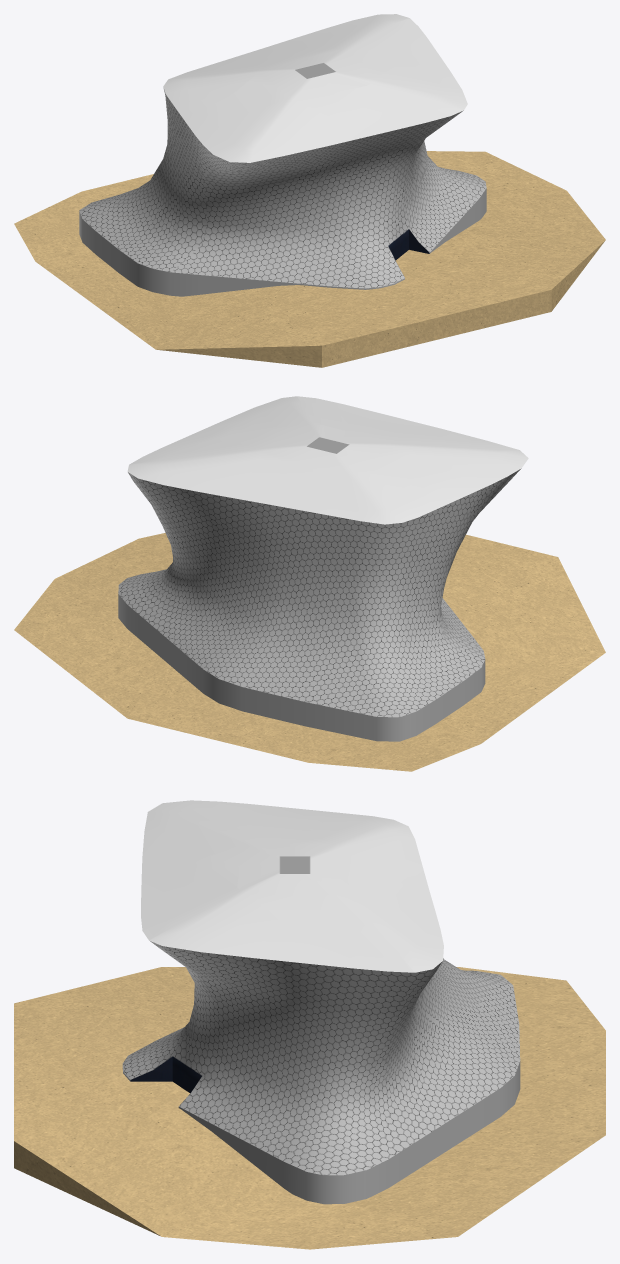
The model's file is Sou2 (1).glb.
The picture shows the model from 3 angles, top to bottom: view 1: azimuth 30°, elevation 25°; view 2: azimuth 150°, elevation 25°; view 3: azimuth 270°, elevation 25°; orthographic projection. The views are drawn at different scales.
Parts seen in each view (by area): view 1: Sou_Matte, Reflective_Sou; view 2: Sou_Matte, Reflective_Sou; view 3: Sou_Matte, Reflective_Sou.
Boxes of the visible parts, box(x1,y1,x2,y2) form: Sou_Matte: box(14, 14, 605, 367); Reflective_Sou: box(79, 88, 486, 288); Sou_Matte: box(14, 396, 605, 771); Reflective_Sou: box(118, 468, 521, 717); Sou_Matte: box(14, 800, 605, 1249); Reflective_Sou: box(122, 941, 520, 1175).
Size of the model in its own units: 0.1984 by 0.0752 by 0.1755.
2 materials, 2 textured.
